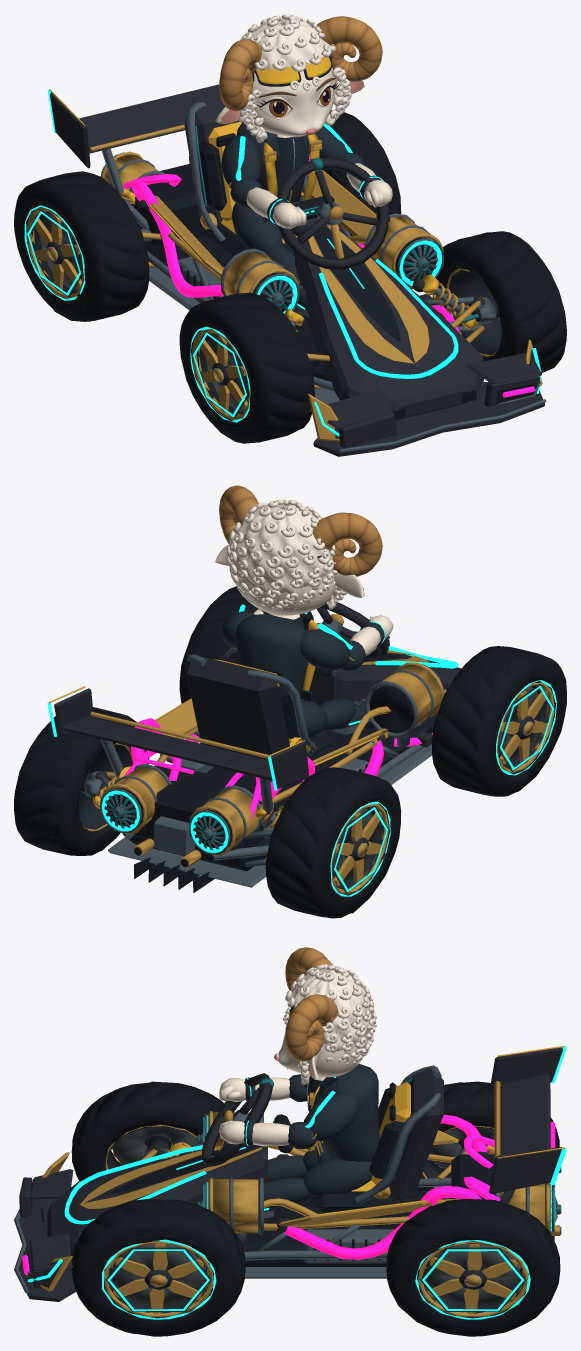
The model's file is sheep.glb.
The picture shows the model from 3 angles, top to bottom: view 1: azimuth 30°, elevation 25°; view 2: azimuth 150°, elevation 25°; view 3: azimuth 270°, elevation 25°; orthographic projection. The views are drawn at different scales.
Visible parts, largest first — view 1: body_metal, body_matte, wheel_rl_matte, wheel_fl_matte, wheel_fr_matte, Sheep / continuous underlying fleece mass, Sheep / ridged coiled ram horn, wheel_fl_metal, wheel_rl_metal, body_signal, Head / continuous forehead orbit cheek muzzle chin, body_accent (+7 smaller); view 2: body_metal, wheel_fl_matte, wheel_rl_matte, body_matte, Sheep / continuous underlying fleece mass, wheel_rr_matte, Sheep / ridged coiled ram horn, wheel_fl_metal, wheel_rl_metal, wheel_fr_matte, body_signal, body_accent (+6 smaller); view 3: body_metal, body_matte, wheel_rr_matte, wheel_fr_matte, wheel_fl_matte, wheel_rr_metal, wheel_fr_metal, Sheep / continuous underlying fleece mass, body_accent, Sheep / ridged coiled ram horn, body_signal, body_skin (+6 smaller).
Part boxes in pixels (x1,y1,x2,y2): body_metal: (50, 84, 546, 456); body_matte: (49, 89, 477, 329); wheel_rl_matte: (14, 171, 149, 321); wheel_fl_matte: (179, 292, 314, 443); wheel_fr_matte: (432, 231, 566, 372); Sheep / continuous underlying fleece mass: (238, 14, 351, 142); Sheep / ridged coiled ram horn: (219, 16, 382, 111); wheel_fl_metal: (192, 329, 249, 420); wheel_rl_metal: (26, 207, 84, 298); body_signal: (47, 90, 541, 436); Head / continuous forehead orbit cheek muzzle chin: (252, 66, 335, 136); body_accent: (123, 154, 535, 397); body_metal: (54, 607, 461, 892); wheel_fl_matte: (432, 646, 566, 796); wheel_rl_matte: (265, 767, 401, 918); body_matte: (48, 602, 389, 818); Sheep / continuous underlying fleece mass: (226, 499, 346, 611); wheel_rr_matte: (14, 707, 149, 855); Sheep / ridged coiled ram horn: (219, 485, 382, 576); wheel_fl_metal: (496, 682, 554, 773); wheel_rl_metal: (331, 804, 388, 895); wheel_fr_matte: (179, 586, 313, 703); body_signal: (47, 604, 458, 852); body_accent: (124, 718, 432, 819); body_metal: (14, 1047, 562, 1301); body_matte: (169, 1046, 564, 1219); wheel_rr_matte: (386, 1199, 560, 1336); wheel_fr_matte: (71, 1199, 245, 1336); wheel_fl_matte: (71, 1081, 223, 1180); wheel_rr_metal: (418, 1241, 528, 1317); wheel_fr_metal: (104, 1241, 213, 1317); Sheep / continuous underlying fleece mass: (283, 964, 376, 1084); body_accent: (22, 1114, 555, 1275); Sheep / ridged coiled ram horn: (285, 947, 338, 1061); body_signal: (27, 1046, 566, 1282); body_skin: (219, 1077, 289, 1146).
Bounding box in the file's own units: 2.21 × 2.14 × 3.57.
